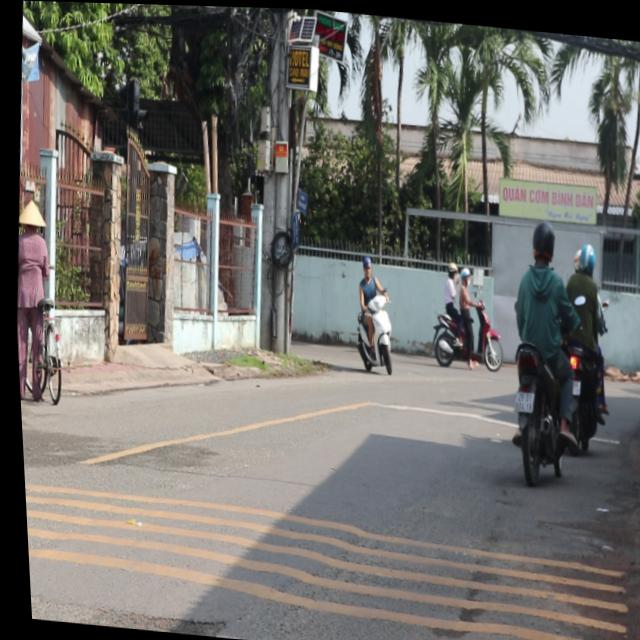helmet: (523, 214, 553, 262), (570, 235, 592, 270)
licenseplate: (490, 210, 582, 481), (545, 232, 616, 450)
nohelmet: (508, 386, 529, 408)
